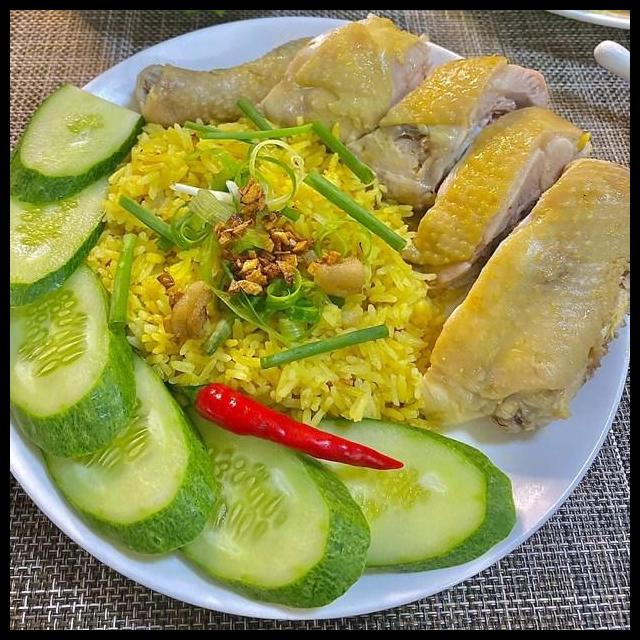com: (80, 112, 449, 439)
com ga: (15, 65, 630, 630)
thit ga: (404, 154, 630, 435), (132, 11, 438, 158), (399, 100, 598, 300), (338, 51, 553, 214)
